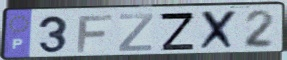2: (243, 9, 276, 50)
3: (35, 14, 72, 55)
F: (75, 13, 114, 54)
X: (197, 9, 239, 52)
Z: (117, 12, 155, 53), (158, 11, 196, 52)
